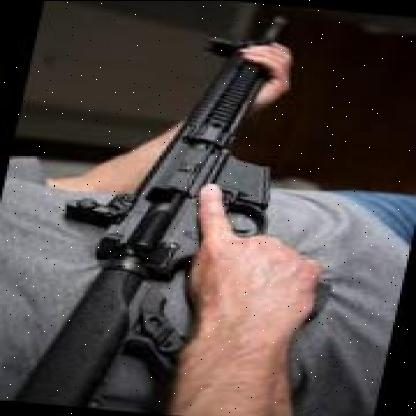rifle: (13, 0, 324, 416)
